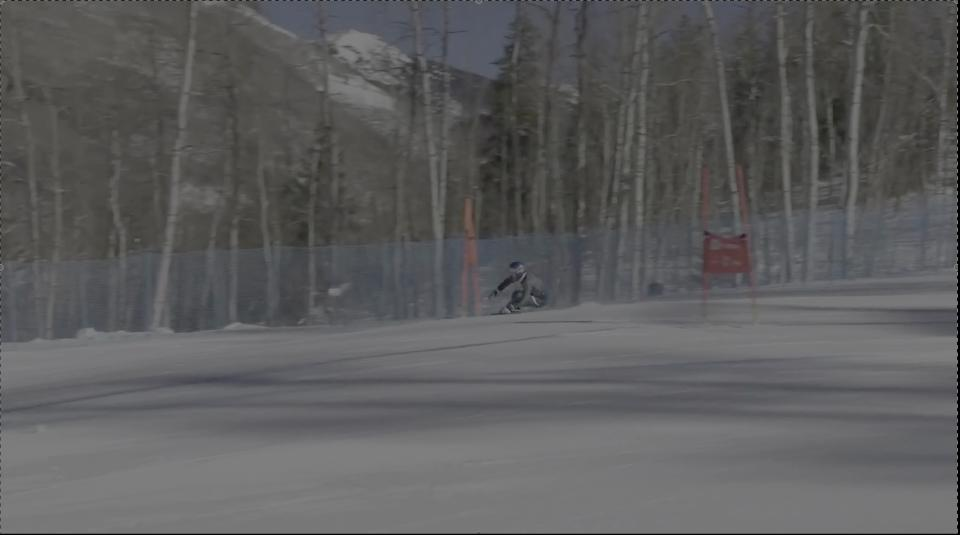gate: (733, 161, 759, 322), (694, 172, 715, 351)
